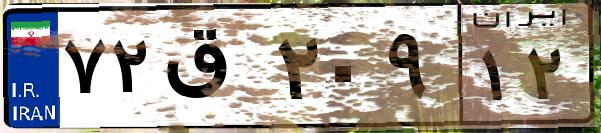0: (330, 28, 385, 110)
1: (475, 38, 525, 113)
2: (270, 28, 330, 110), (525, 38, 570, 115), (110, 28, 158, 98)
7: (57, 26, 110, 100)
9: (385, 28, 445, 110)
ق: (158, 20, 270, 120)
